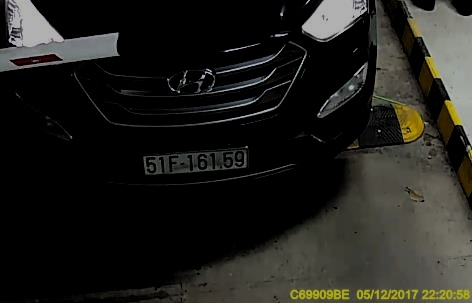plate: (145, 145, 245, 180)
